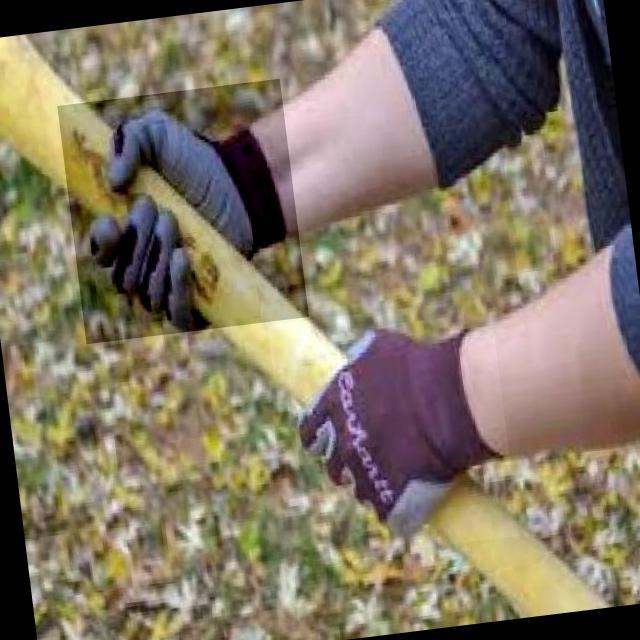Gloves: (57, 78, 309, 344), (267, 297, 519, 563)
